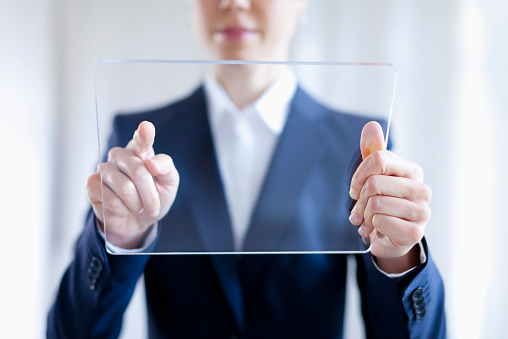em pe: (20, 0, 476, 339)
